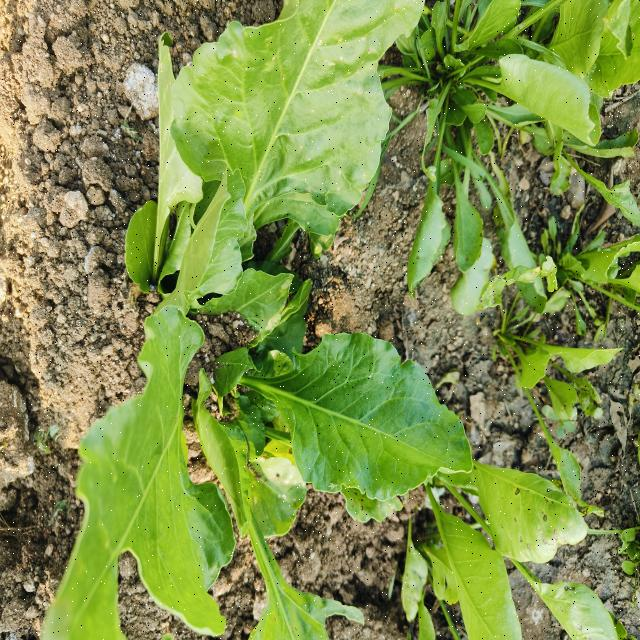leaves: (163, 1, 446, 309), (25, 271, 225, 640), (211, 322, 480, 535), (431, 397, 593, 566), (460, 495, 636, 640), (195, 380, 316, 564), (120, 34, 195, 311), (400, 472, 519, 640), (474, 31, 632, 157), (178, 258, 300, 357), (479, 159, 556, 311), (432, 105, 482, 293), (407, 83, 449, 305), (119, 174, 174, 299)
